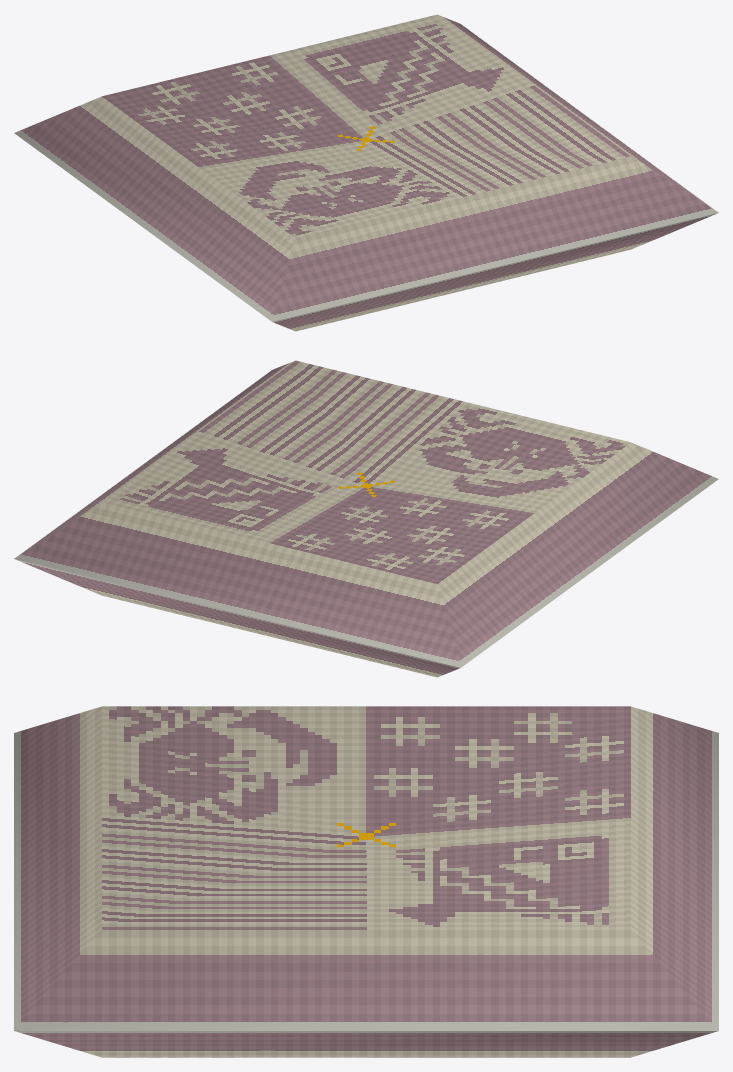
The model's file is 0145_Seat_Cushion.glb.
3 renders of one model, top to bottom at view 1: azimuth 30°, elevation 25°; view 2: azimuth 150°, elevation 25°; view 3: azimuth 270°, elevation 25°, orthographic. The views are drawn at different scales.
Parts seen in each view (by area): view 1: part_0; view 2: part_0; view 3: part_0.
Boxes of the visible parts, bbox=[...] form: part_0: bbox=[14, 14, 718, 331]; part_0: bbox=[14, 360, 718, 677]; part_0: bbox=[14, 706, 718, 1057].
Bounding box in the file's own units: 0.5 × 0.1 × 0.5.
1 material, 1 textured.
